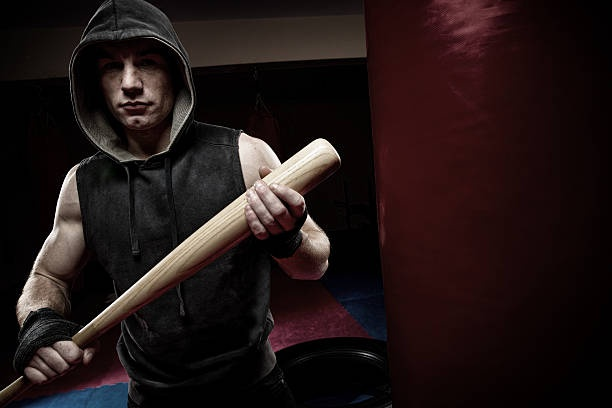bita: (8, 138, 343, 400)
